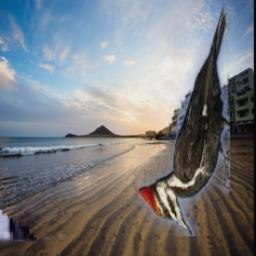Crow: (0, 9, 70, 242)
Woodpecker: (137, 0, 230, 237)
